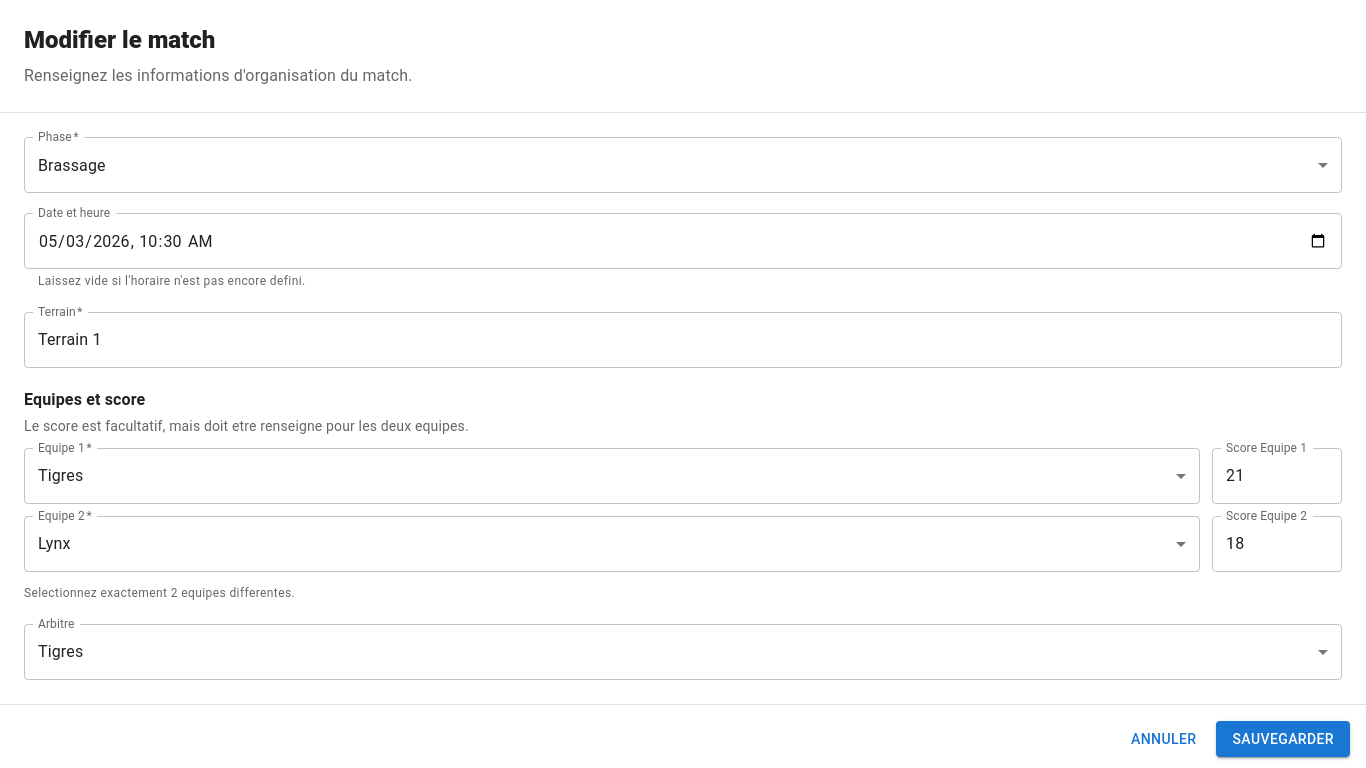
Test: ManageGameForm › should disable the other selected team in each team selector
The width and height of the screenshot is (1366, 768).
Press the mouse on the dropdown named "Equipe 1" at point(61, 476), box [38,466,83,485]
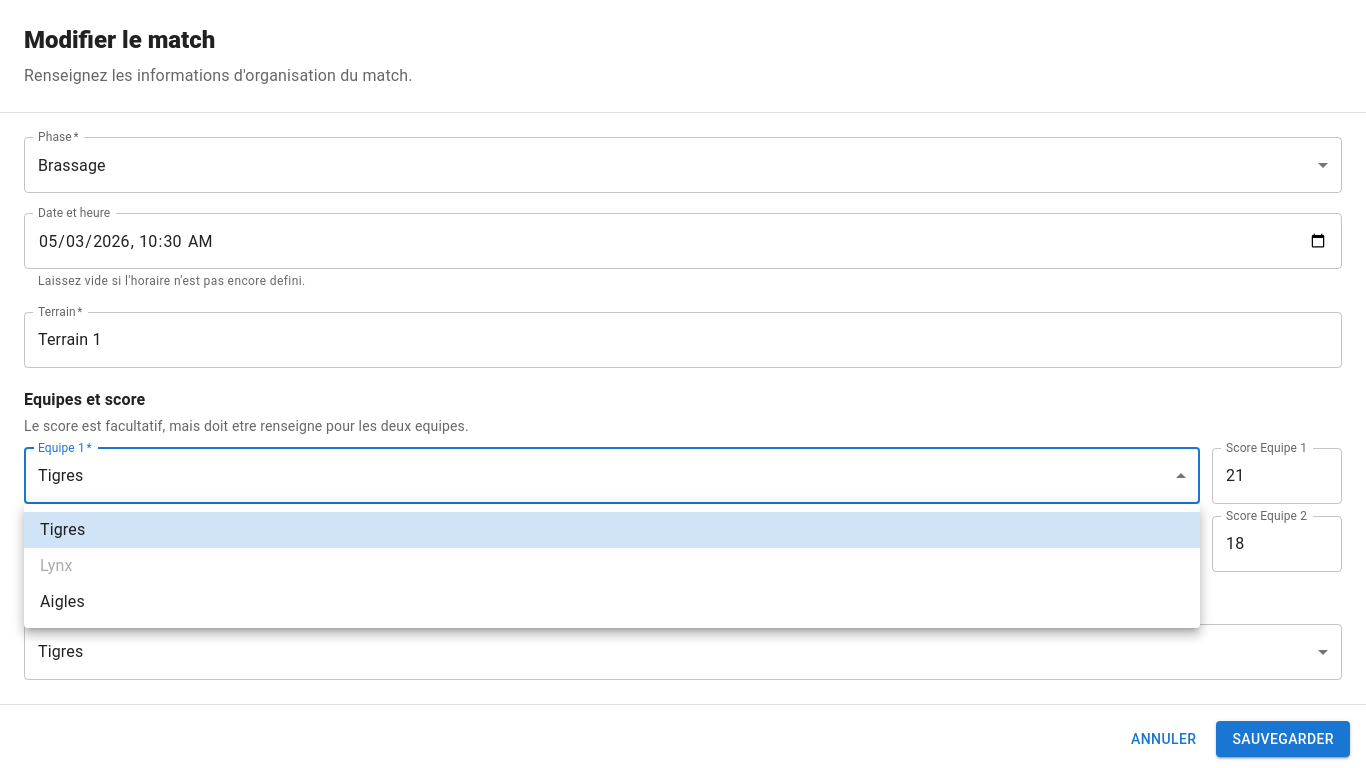
Result: the option "Tigres" is enabled at [24,512,1200,548]
Result: the option "Aigles" is enabled at [40,592,85,611]
